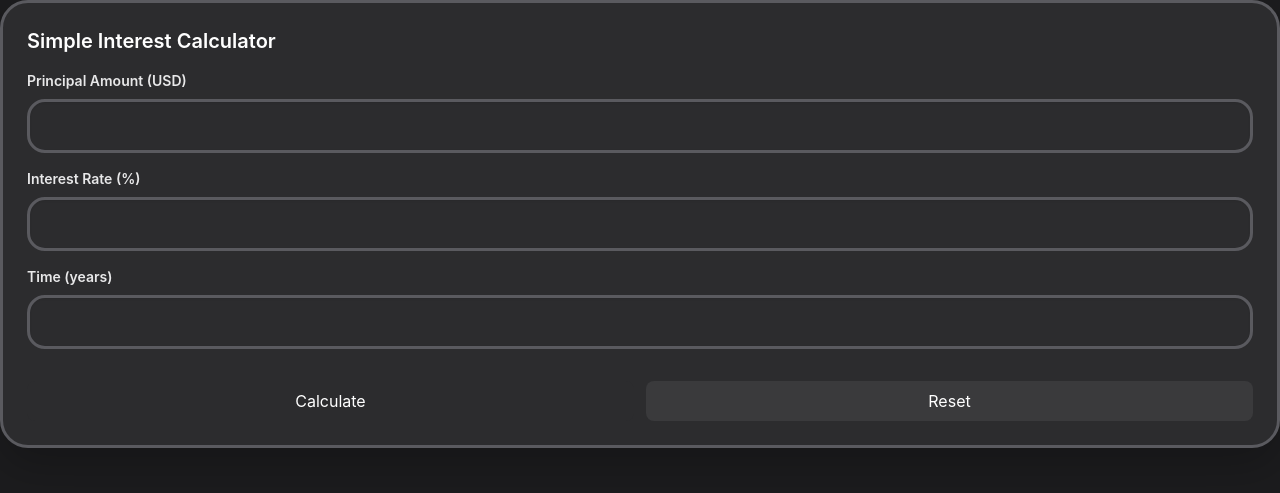
SimpleInterestCalculator › shows validation error when required fields are empty
Step 1. Click the button "Calculate" → coordinates (330, 401), box [27,381,634,421]
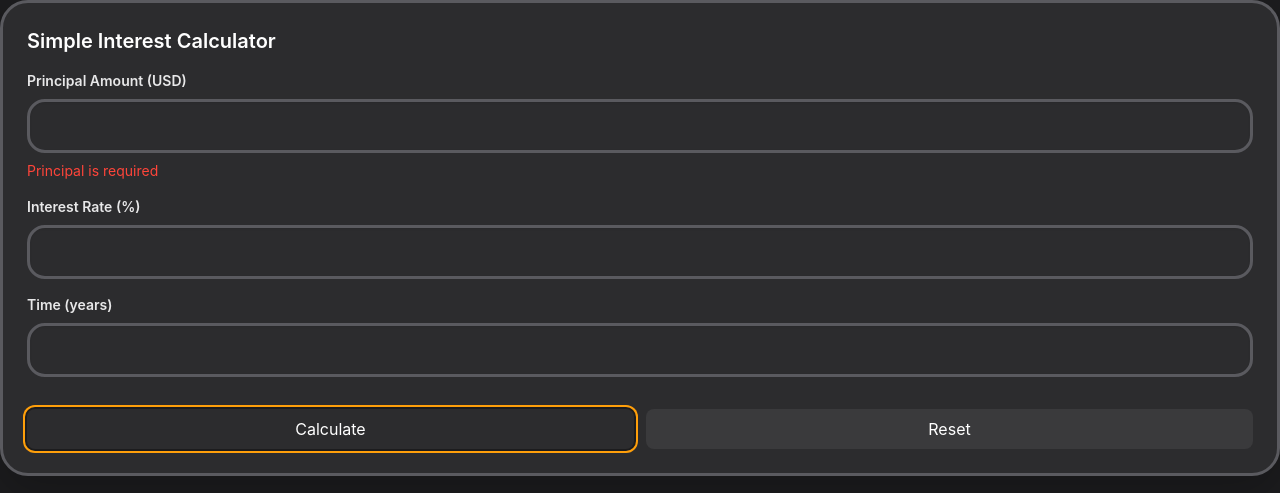
Expected: the text "Principal is required" is shown, [27,162,158,179]
